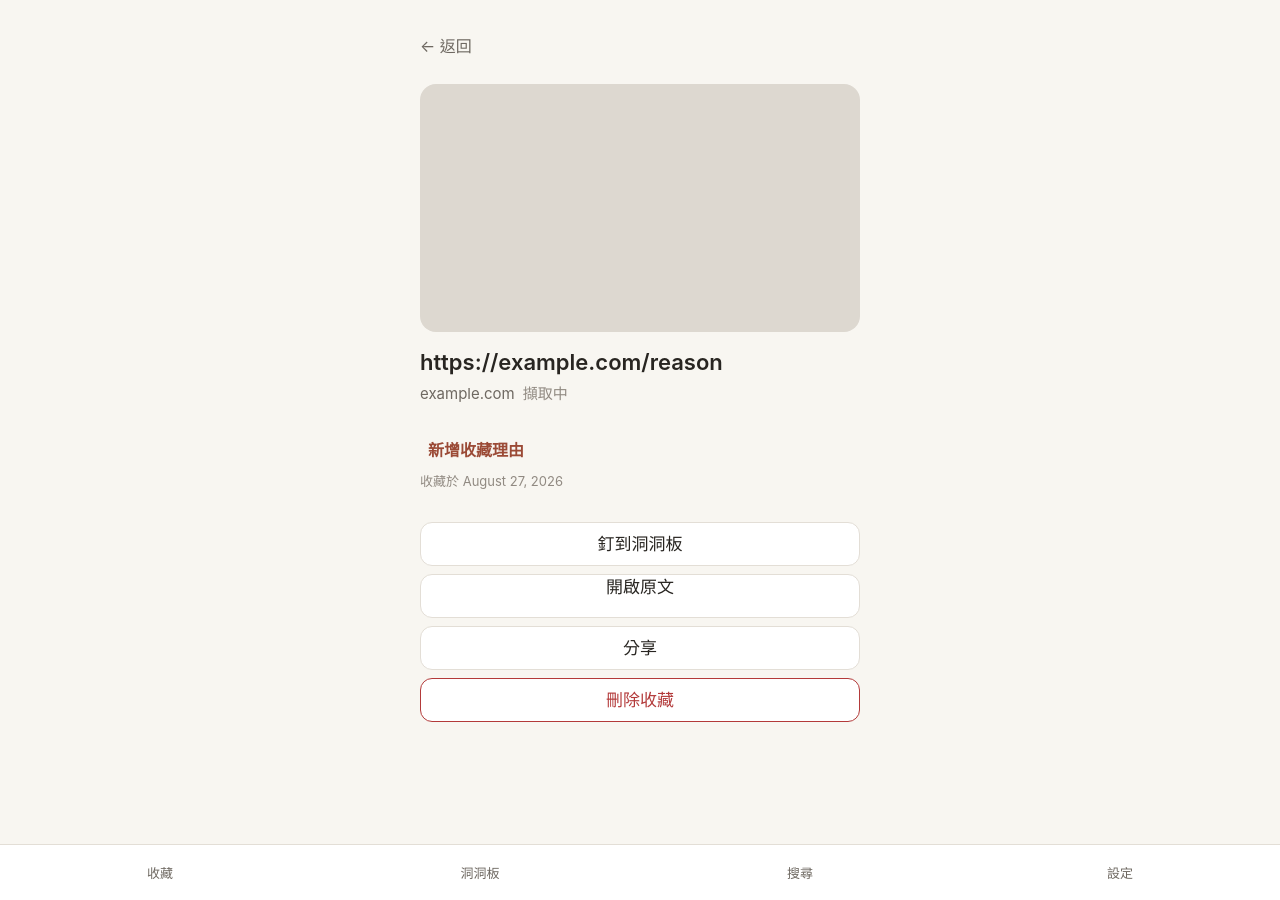
Test case: Bookmark Detail flow › edits the Reason Note in place and persists the change
Expected: the heading "https://example.com/reason" is shown, [420,348,723,374]
Step 1. Click the button "新增收藏理由" → (476, 450), box [420,428,532,472]
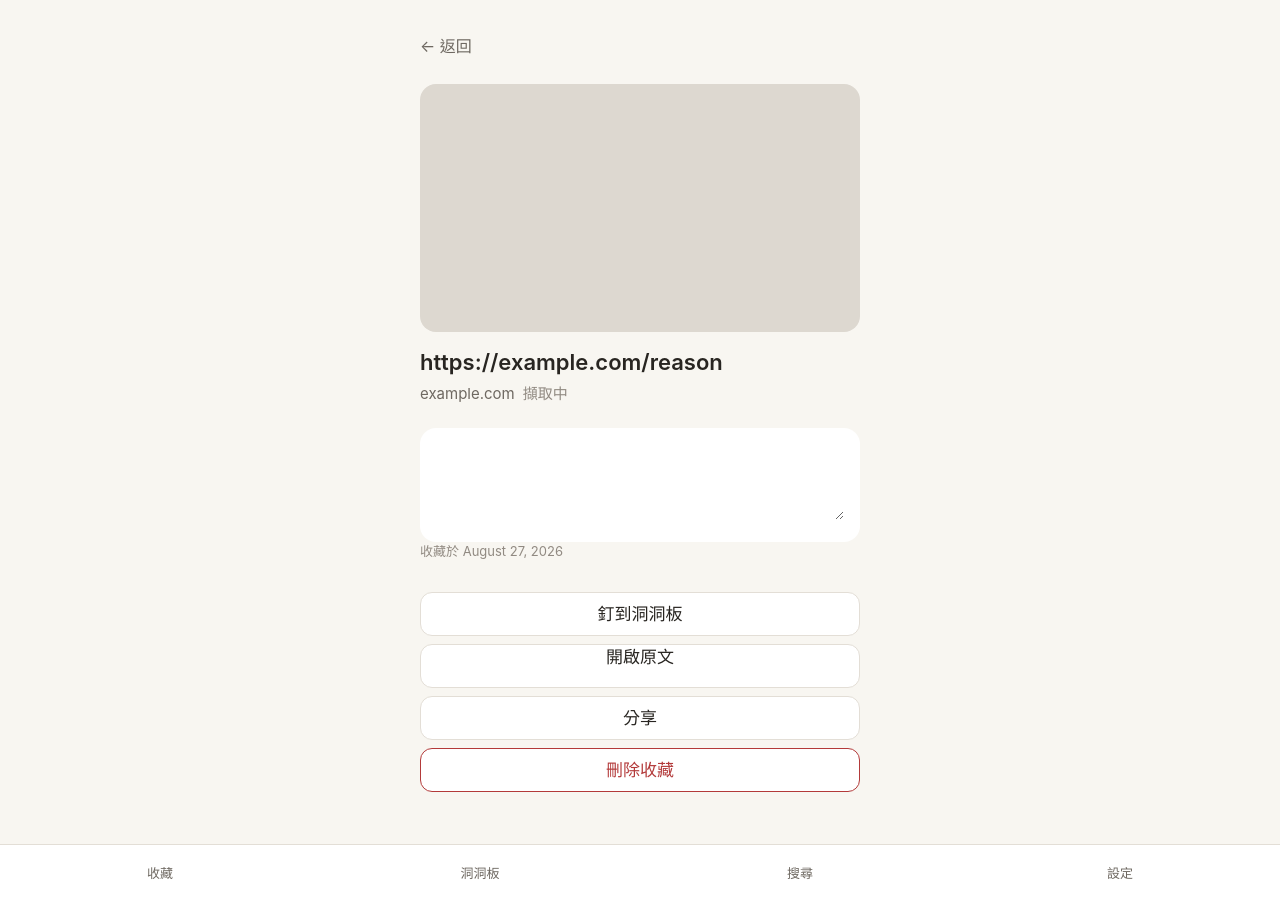
Step 2. Type "想找時間去看看" into the text box named "收藏理由" → (640, 482), box [436,444,844,520]
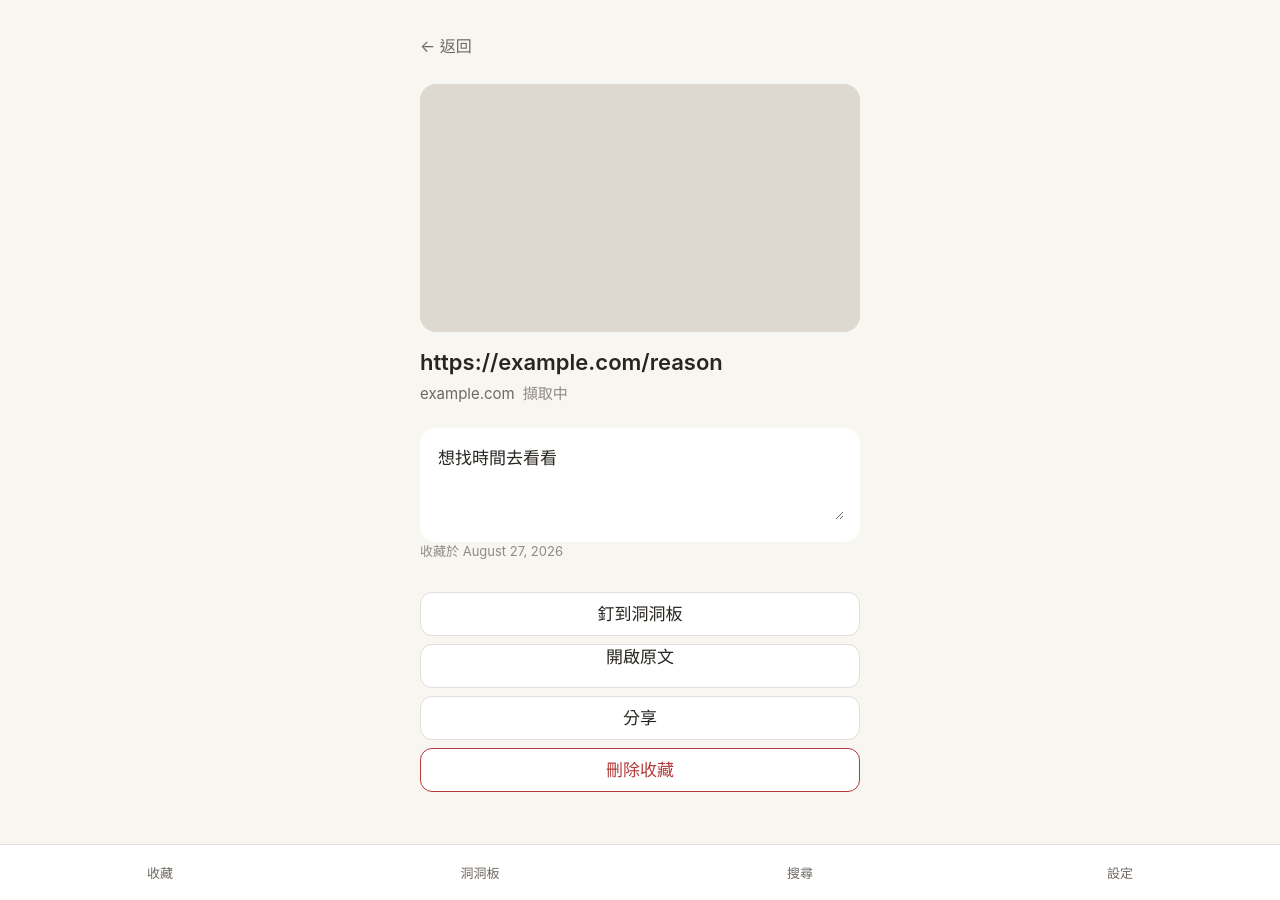
Step 3. Leave the text box named "收藏理由", box [436,444,844,520]
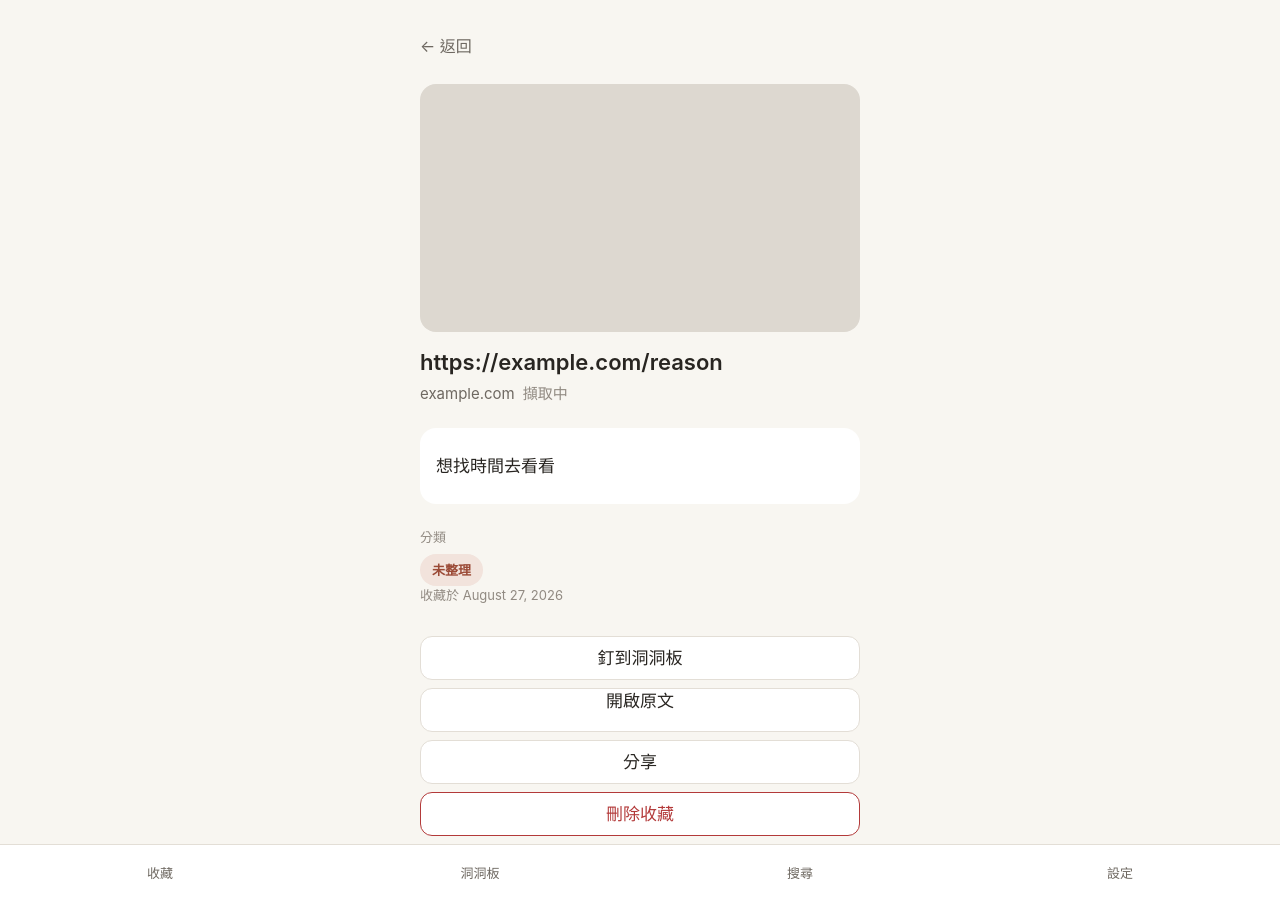
Now the button "想找時間去看看" is shown, box [436,444,844,488]
